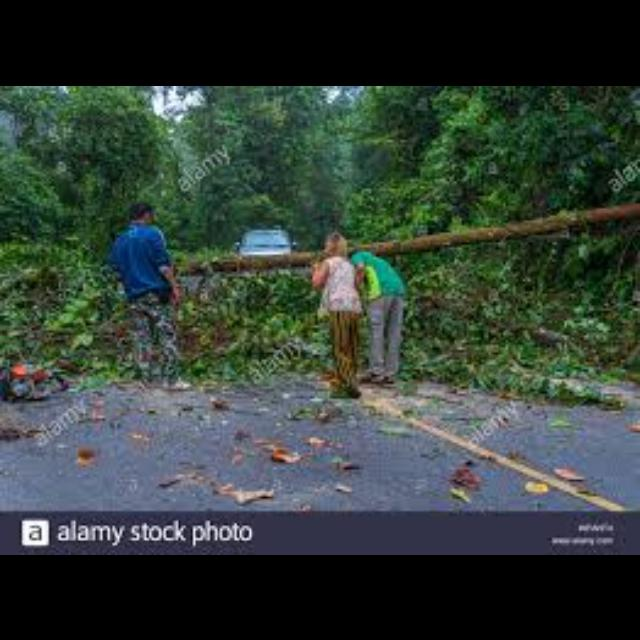Fallen Tree: (113, 201, 639, 277)
